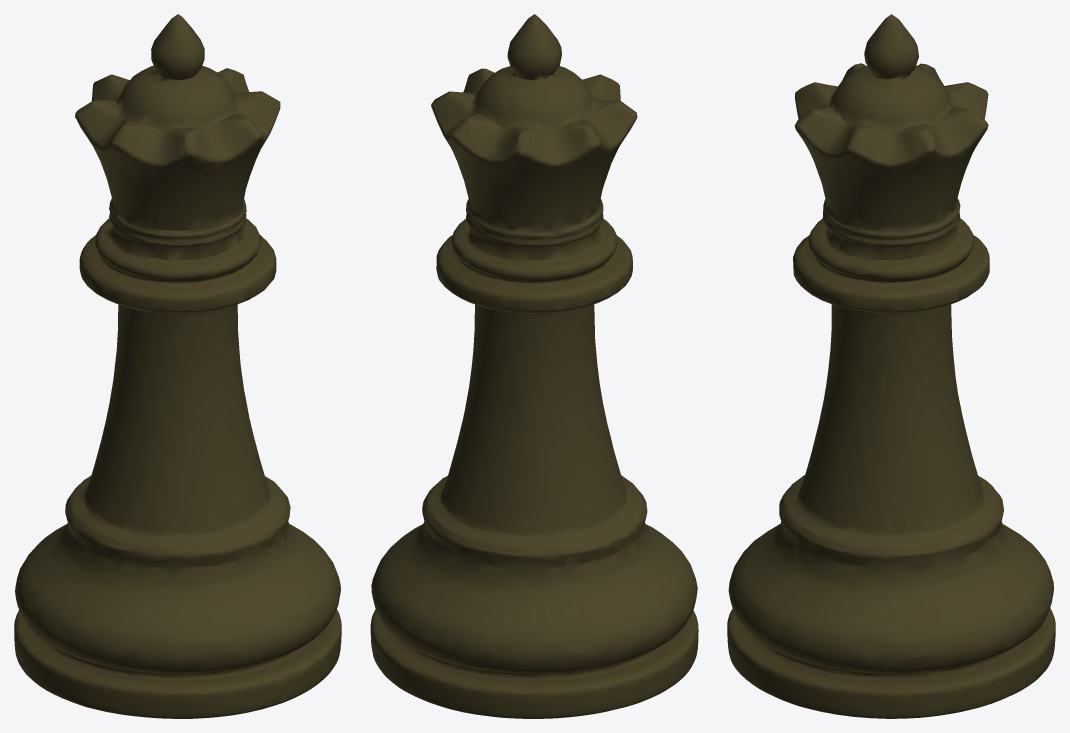
Rendered from queen.glb.
3 views of the same model, side by side, from view 1: azimuth 30°, elevation 25°; view 2: azimuth 150°, elevation 25°; view 3: azimuth 270°, elevation 25° (orthographic).
Visible parts, largest first — view 1: tripo_node_b576e540-9e27-4a0a-8e6f-a6e8e9d5ae32; view 2: tripo_node_b576e540-9e27-4a0a-8e6f-a6e8e9d5ae32; view 3: tripo_node_b576e540-9e27-4a0a-8e6f-a6e8e9d5ae32.
Part boxes in pixels (x1=…): tripo_node_b576e540-9e27-4a0a-8e6f-a6e8e9d5ae32: x1=14, y1=14, x2=341, y2=718; tripo_node_b576e540-9e27-4a0a-8e6f-a6e8e9d5ae32: x1=370, y1=14, x2=698, y2=718; tripo_node_b576e540-9e27-4a0a-8e6f-a6e8e9d5ae32: x1=727, y1=14, x2=1055, y2=718.
Size of the model in its own units: 0.4659 by 1 by 0.4659.
Materials: 1 (1 with a texture image).
